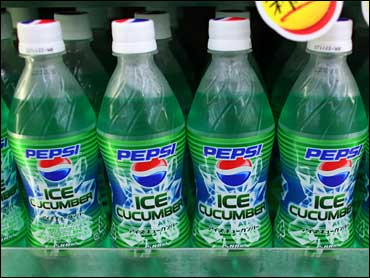pepsi: (215, 154, 250, 185), (130, 156, 166, 186), (315, 155, 351, 185), (40, 157, 68, 178)
